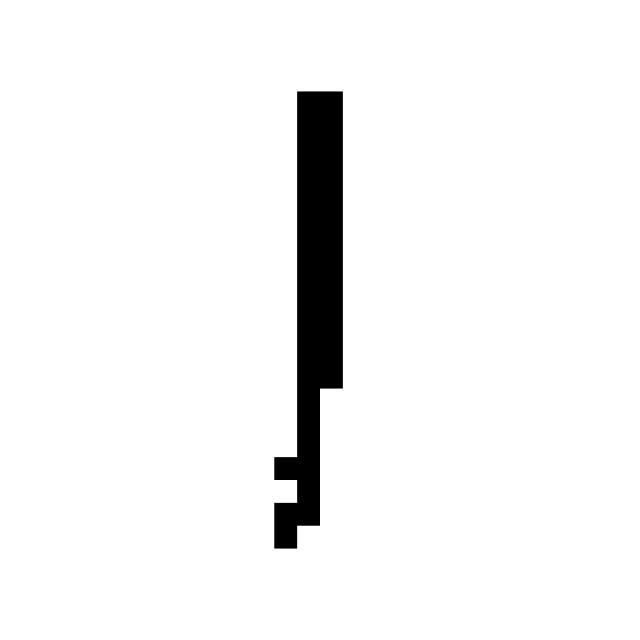1 -one-: (251, 69, 370, 569)
